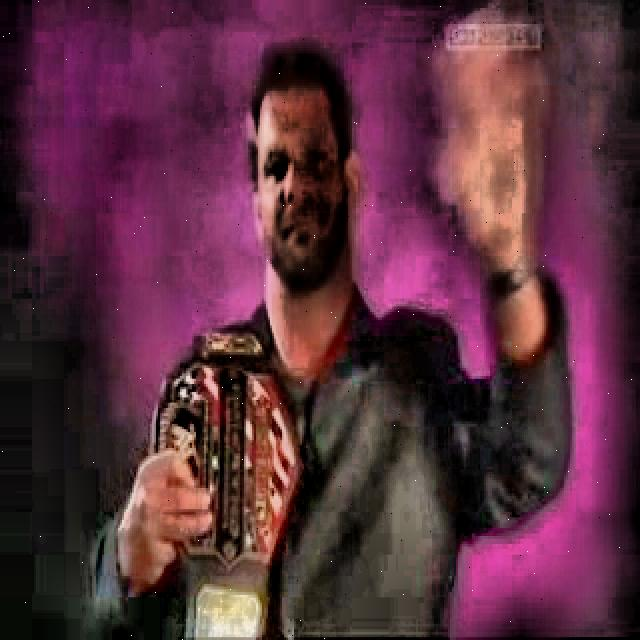L: (95, 37, 568, 636)
